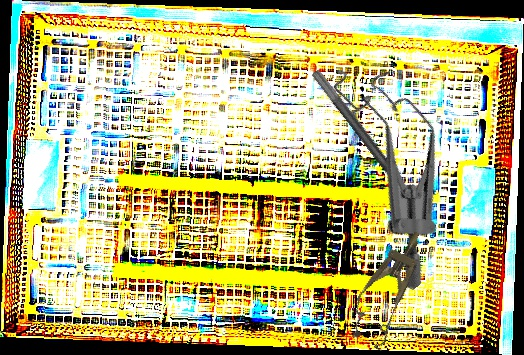Fixation Ring: (299, 68, 425, 223)
Speculum: (270, 43, 509, 294), (340, 221, 439, 353)
